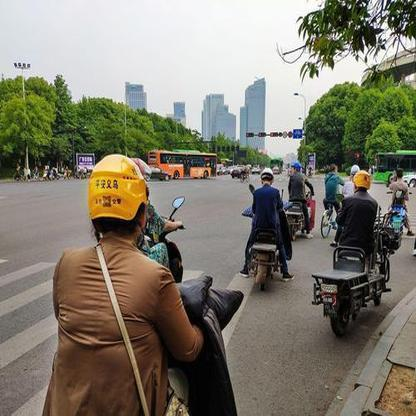target: (46, 151, 245, 403), (312, 169, 396, 337), (246, 166, 295, 291)
